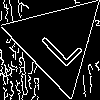L: (32, 16, 84, 69)
